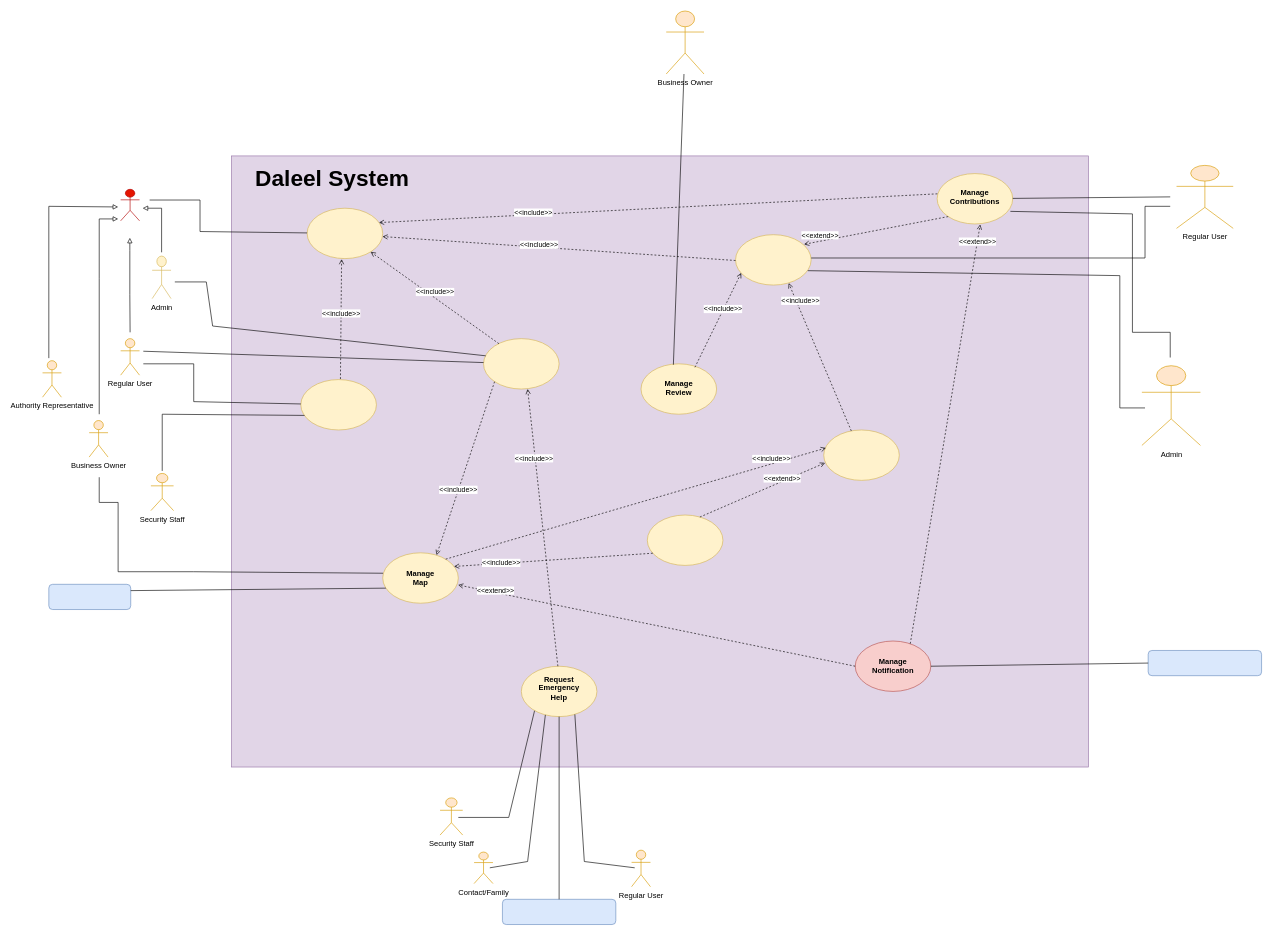
The diagram is 1273 pixels wide and 936 high, and some of its shapes have lost their labels. Here are the shapes that lost their labels. From the top down, the centre of each, then its label:
At pixel 344 233: "Manage Authentication".
At pixel 773 259: "Manage Participation".
At pixel 521 363: "Manage Location".
At pixel 338 404: "Manage Contact Support".
At pixel 861 454: "Manage Report".
At pixel 685 539: "Manage Route".
At pixel 89 597: "Google Maps API".
At pixel 1205 663: "Email Service".
At pixel 559 912: "Emergency Service".
